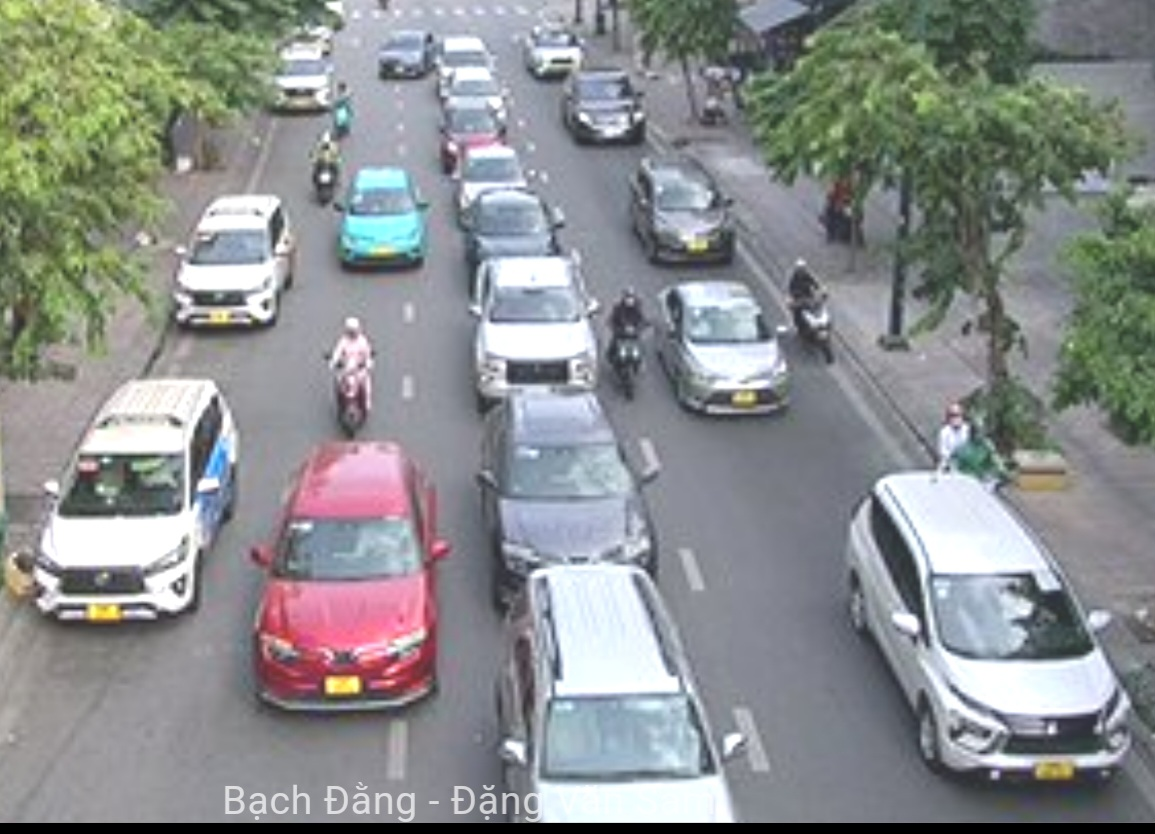car: (844, 472, 1134, 781), (246, 432, 446, 731), (498, 580, 729, 832), (30, 373, 243, 624), (480, 403, 666, 581), (657, 283, 798, 418), (179, 189, 297, 335), (470, 264, 603, 392), (630, 154, 746, 268), (340, 165, 428, 272), (469, 192, 566, 259), (561, 72, 651, 144), (443, 97, 508, 146), (527, 24, 583, 80), (378, 28, 436, 82), (438, 32, 494, 70)
